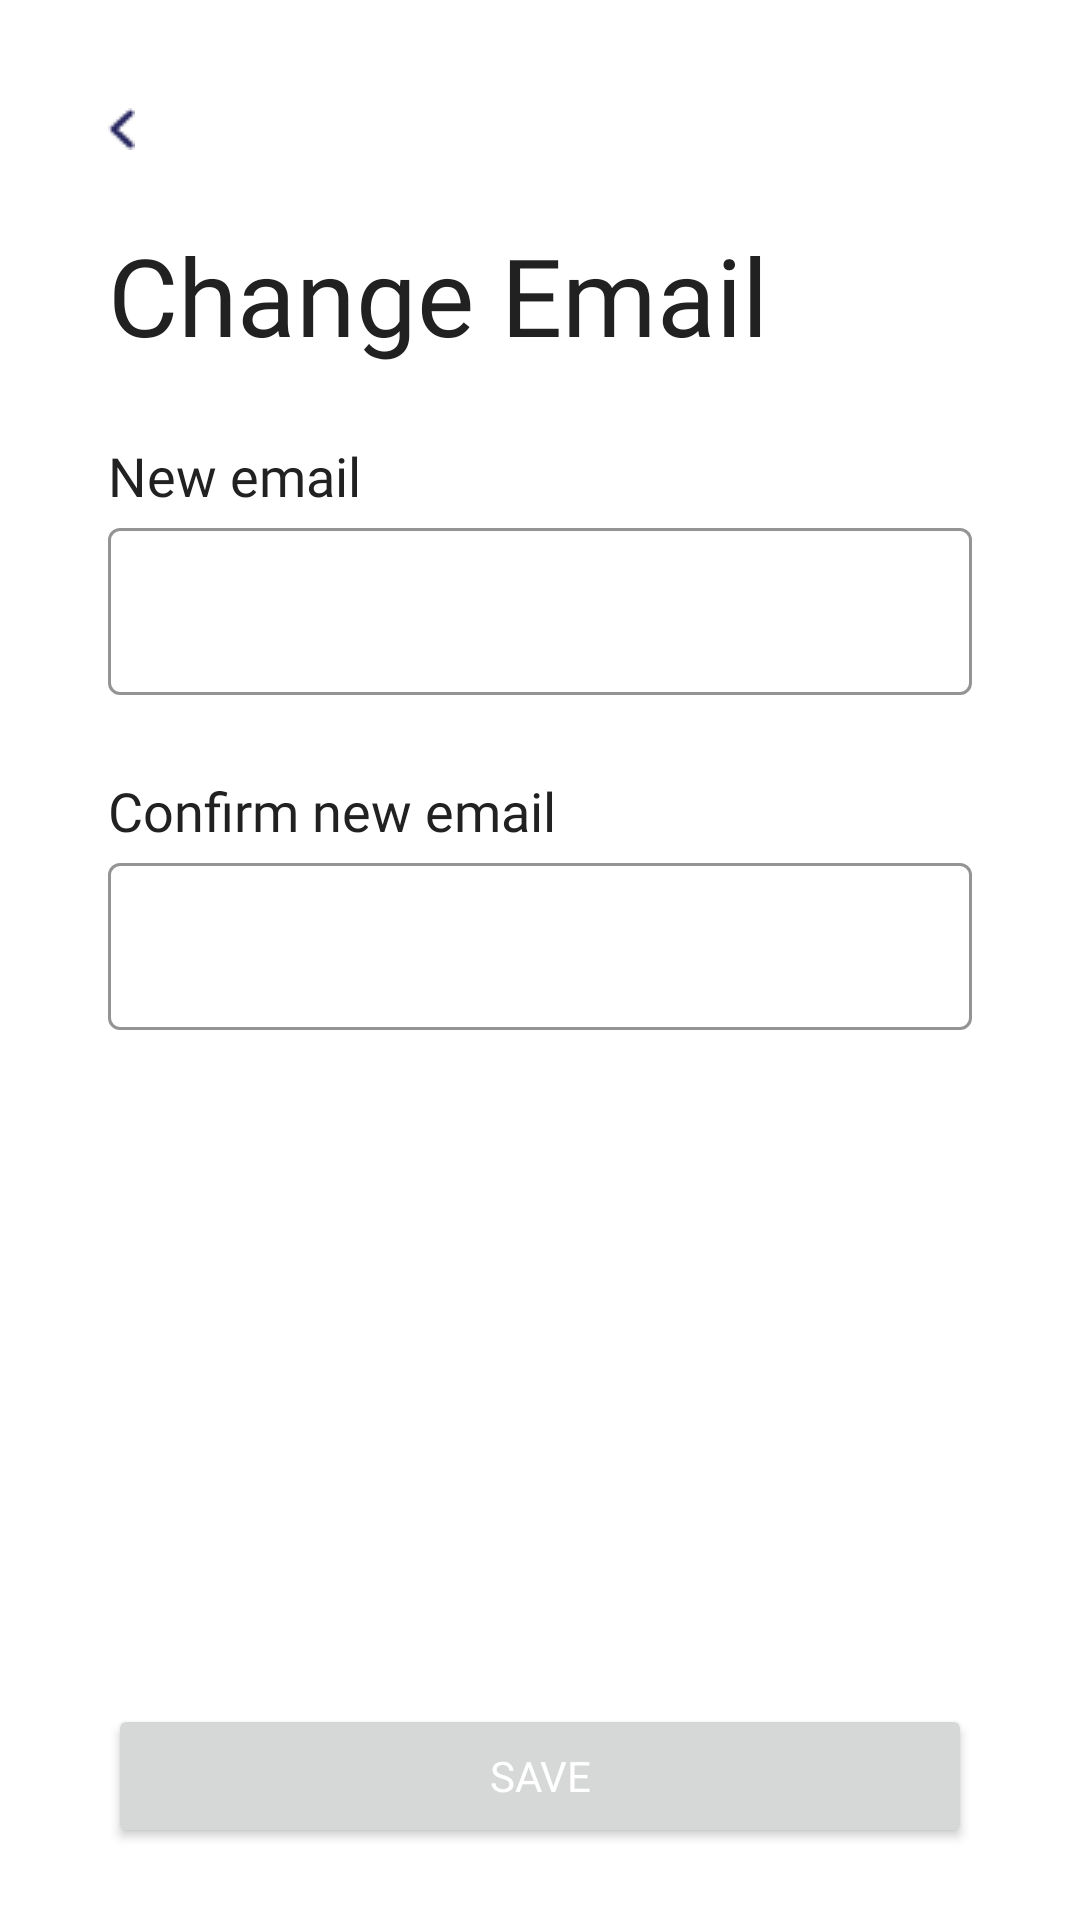

Where icons sit on this 1080×1920 app screen, as [x1,y1,x2,y2]:
back arrow: [108,108,135,150]
